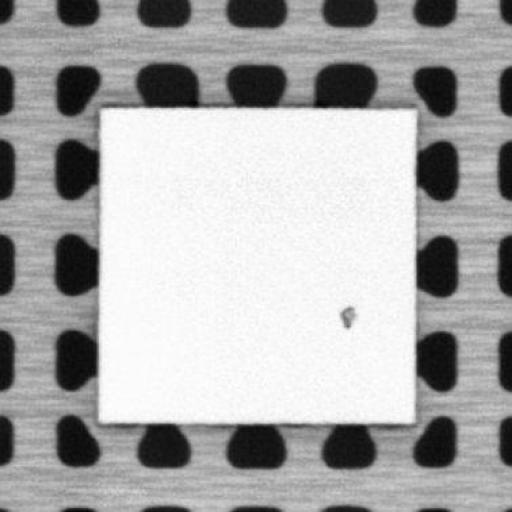DIE_INK: (338, 304, 356, 328)
